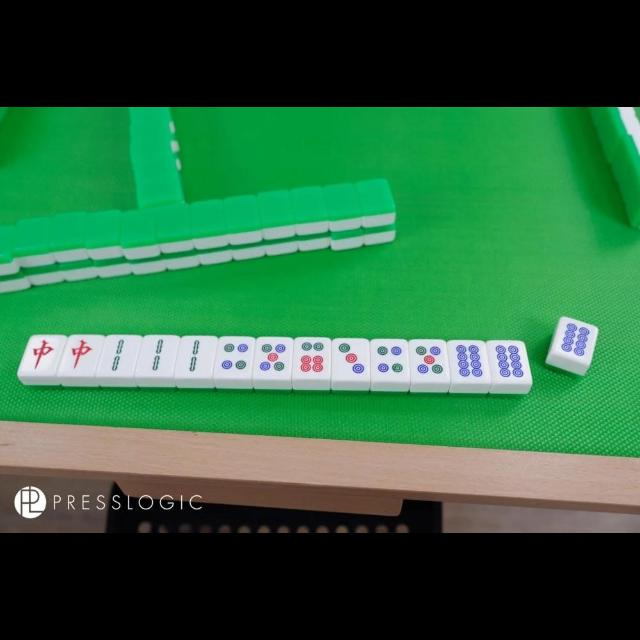b2: (99, 335, 137, 375), (140, 336, 176, 376), (178, 338, 212, 378)
d3: (330, 339, 370, 378)
d4: (370, 340, 410, 380), (215, 338, 253, 378)
d5: (408, 340, 448, 382), (255, 338, 292, 377)
d6: (294, 339, 330, 379)
d8: (488, 342, 530, 384), (556, 320, 596, 360), (449, 341, 488, 381)
dr: (22, 336, 60, 376), (62, 336, 100, 374)
